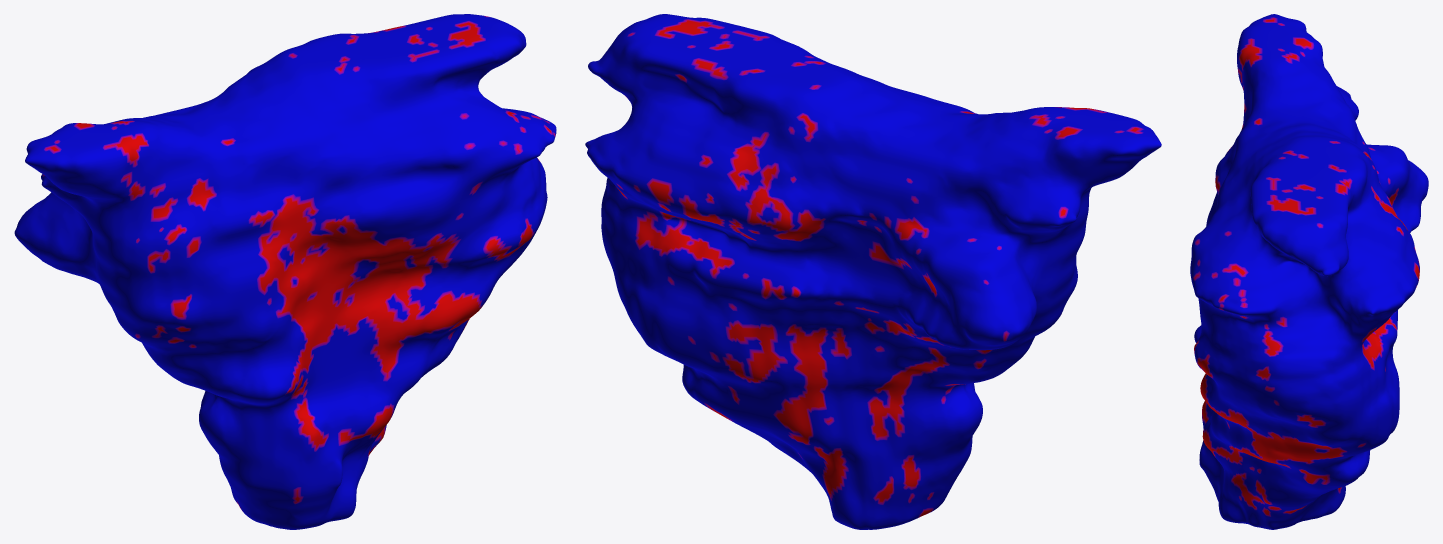
Rendered from CMRAF_26_model_AR.glb.
3 views of the same model, side by side, from view 1: azimuth 30°, elevation 25°; view 2: azimuth 150°, elevation 25°; view 3: azimuth 270°, elevation 25° (orthographic). The views are drawn at different scales.
Visible parts, largest first — view 1: CMRAF_26_model_AR.ply; view 2: CMRAF_26_model_AR.ply; view 3: CMRAF_26_model_AR.ply.
Part boxes in pixels (left/top/right/bottom): CMRAF_26_model_AR.ply: left=14, top=14, right=556, bottom=529; CMRAF_26_model_AR.ply: left=585, top=14, right=1161, bottom=529; CMRAF_26_model_AR.ply: left=1190, top=14, right=1428, bottom=529.
Size of the model in its own units: 0.2 by 0.154 by 0.0862.
